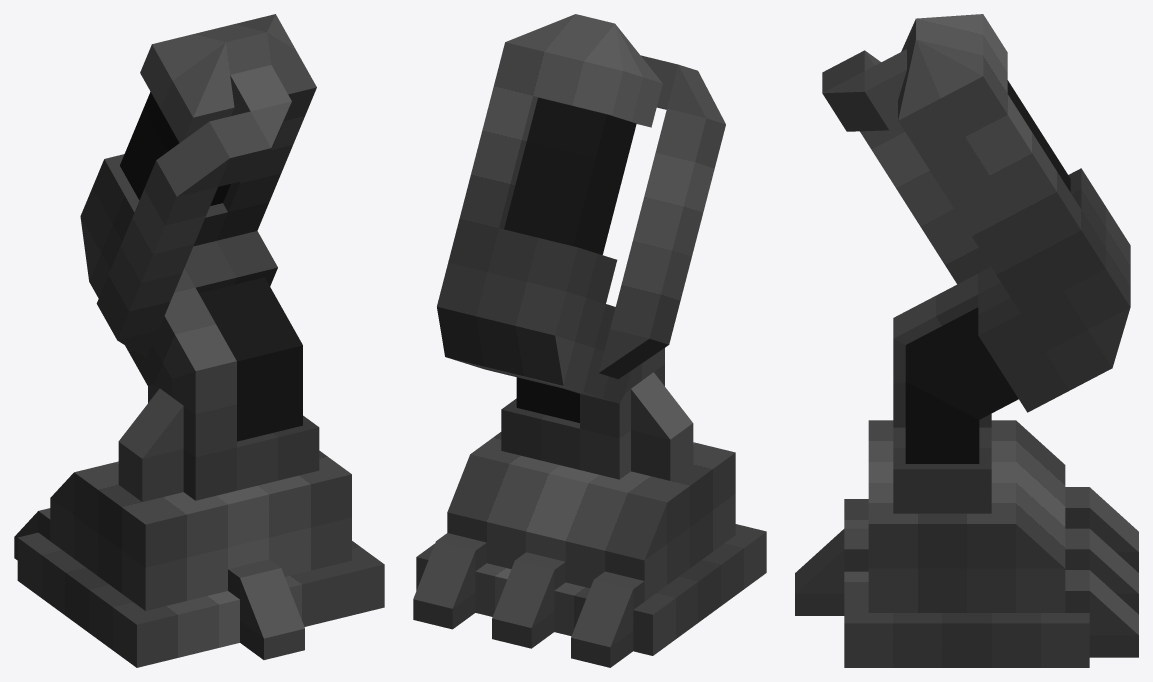
File: leg_reinforced_l.obj
The picture shows the model from 3 angles, left to right: view 1: azimuth 30°, elevation 25°; view 2: azimuth 150°, elevation 25°; view 3: azimuth 270°, elevation 25°; orthographic projection. The views are drawn at different scales.
Parts seen in each view (by area): view 1: LEG_LEFT_REINFORCED_Cube.009; view 2: LEG_LEFT_REINFORCED_Cube.009; view 3: LEG_LEFT_REINFORCED_Cube.009.
Boxes of the visible parts, bbox=[...] form: LEG_LEFT_REINFORCED_Cube.009: bbox=[14, 14, 384, 667]; LEG_LEFT_REINFORCED_Cube.009: bbox=[413, 14, 766, 667]; LEG_LEFT_REINFORCED_Cube.009: bbox=[795, 14, 1138, 667].
Bounding box in the file's own units: 0.375 × 0.8246 × 0.4375.
